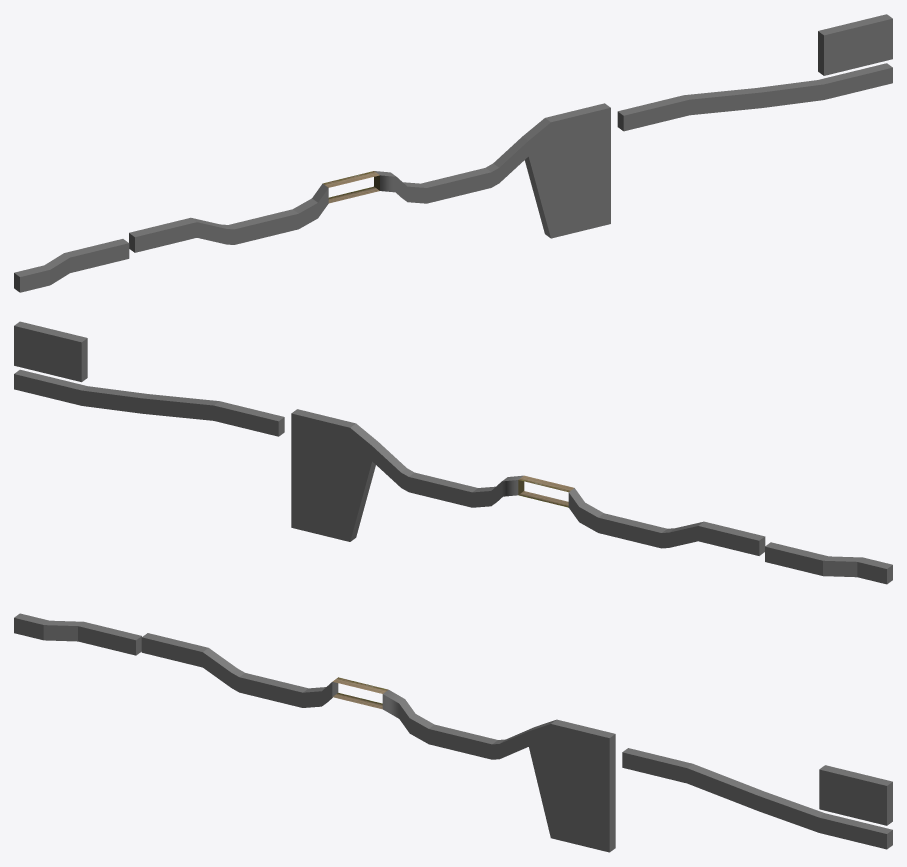
File: meadow_just_path.fbx
3 views of the same model, one above another, from view 1: azimuth 30°, elevation 25°; view 2: azimuth 150°, elevation 25°; view 3: azimuth 330°, elevation 25° (orthographic).
Parts seen in each view (by area): view 1: Mesh (11), Mesh (16), Mesh (9), Mesh (12), Mesh (13), Mesh (15), Mesh (20), Mesh (6), Mesh (18), Mesh (14), Mesh (23), Mesh (8) (+3 smaller); view 2: Mesh (11), Mesh (16), Mesh (9), Mesh (12), Mesh (13), Mesh (15), Mesh (20), Mesh (6), Mesh (18), Mesh (14), Mesh (23), Mesh (8) (+4 smaller); view 3: Mesh (11), Mesh (16), Mesh (13), Mesh (15), Mesh (9), Mesh (12), Mesh (6), Mesh (18), Mesh (14), Mesh (23), Mesh (20), Mesh (22) (+4 smaller).
Boxes of the visible parts, x1,y1,x2,y2 form: Mesh (11): (545,103,610,238); Mesh (16): (818,14,892,75); Mesh (9): (522,118,550,238); Mesh (12): (617,95,689,131); Mesh (13): (684,88,761,115); Mesh (15): (818,63,892,99); Mesh (20): (129,217,196,252); Mesh (6): (421,168,491,203); Mesh (18): (228,209,298,244); Mesh (14): (756,80,823,107); Mesh (23): (64,239,129,272); Mesh (8): (493,136,528,182); Mesh (11): (291,409,355,541); Mesh (16): (14,321,87,382); Mesh (9): (350,423,377,541); Mesh (12): (213,401,284,436); Mesh (13): (142,394,219,420); Mesh (15): (14,369,87,405); Mesh (20): (698,521,765,555); Mesh (6): (408,472,477,507); Mesh (18): (598,513,667,548); Mesh (14): (81,386,148,413); Mesh (23): (765,542,828,575); Mesh (8): (372,442,406,487); Mesh (11): (551,719,615,852); Mesh (16): (819,765,892,825); Mesh (13): (687,764,763,810); Mesh (15): (819,813,892,849); Mesh (9): (528,720,555,837); Mesh (12): (622,748,692,783); Mesh (6): (428,724,497,759); Mesh (18): (239,673,308,707); Mesh (14): (758,791,824,832); Mesh (23): (78,622,141,655); Mesh (20): (141,633,208,667); Mesh (22): (202,648,237,687).
Bounding box in the file's own units: 123624 × 18323 × 3318.
23 materials, 1 textured.
